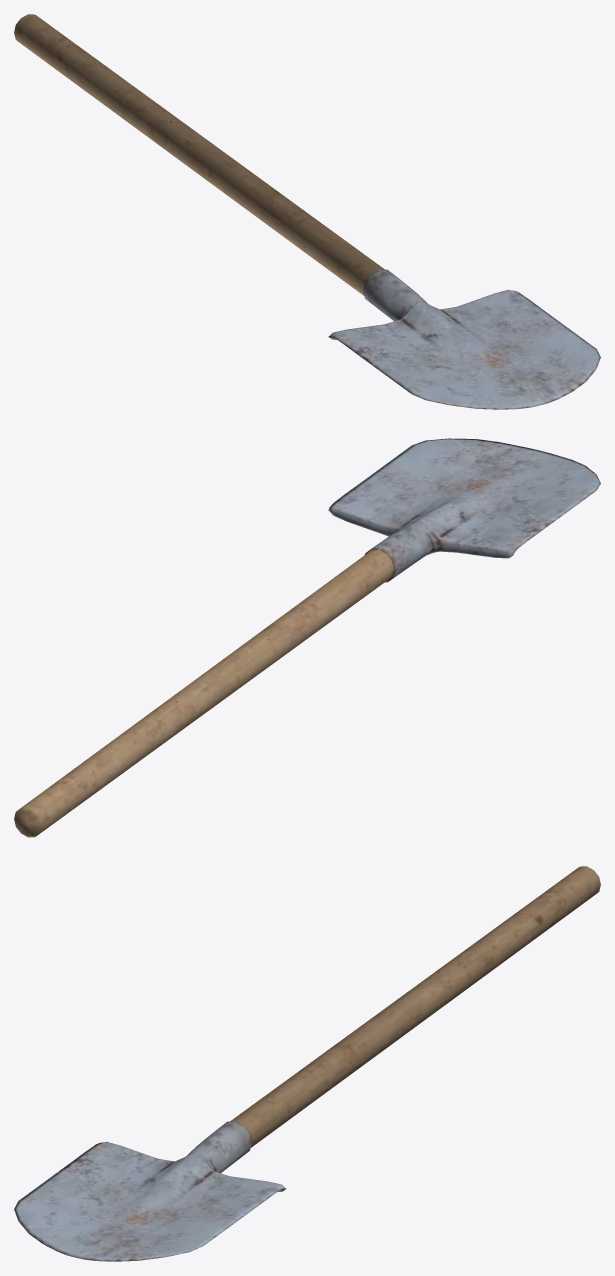
Rendered from obj_old_shovel.glb.
The picture shows the model from 3 angles, top to bottom: view 1: azimuth 30°, elevation 25°; view 2: azimuth 150°, elevation 25°; view 3: azimuth 330°, elevation 25°; orthographic projection.
Parts seen in each view (by area): view 1: Cylinder001__0; view 2: Cylinder001__0; view 3: Cylinder001__0.
Part boxes in pixels (x1,y1,x2,y2): Cylinder001__0: (14,14,600,409); Cylinder001__0: (14,438,600,837); Cylinder001__0: (14,866,600,1261).
Size of the model in its own units: 0.2076 by 0.0377 by 1.
Materials: 1 (1 with a texture image).
